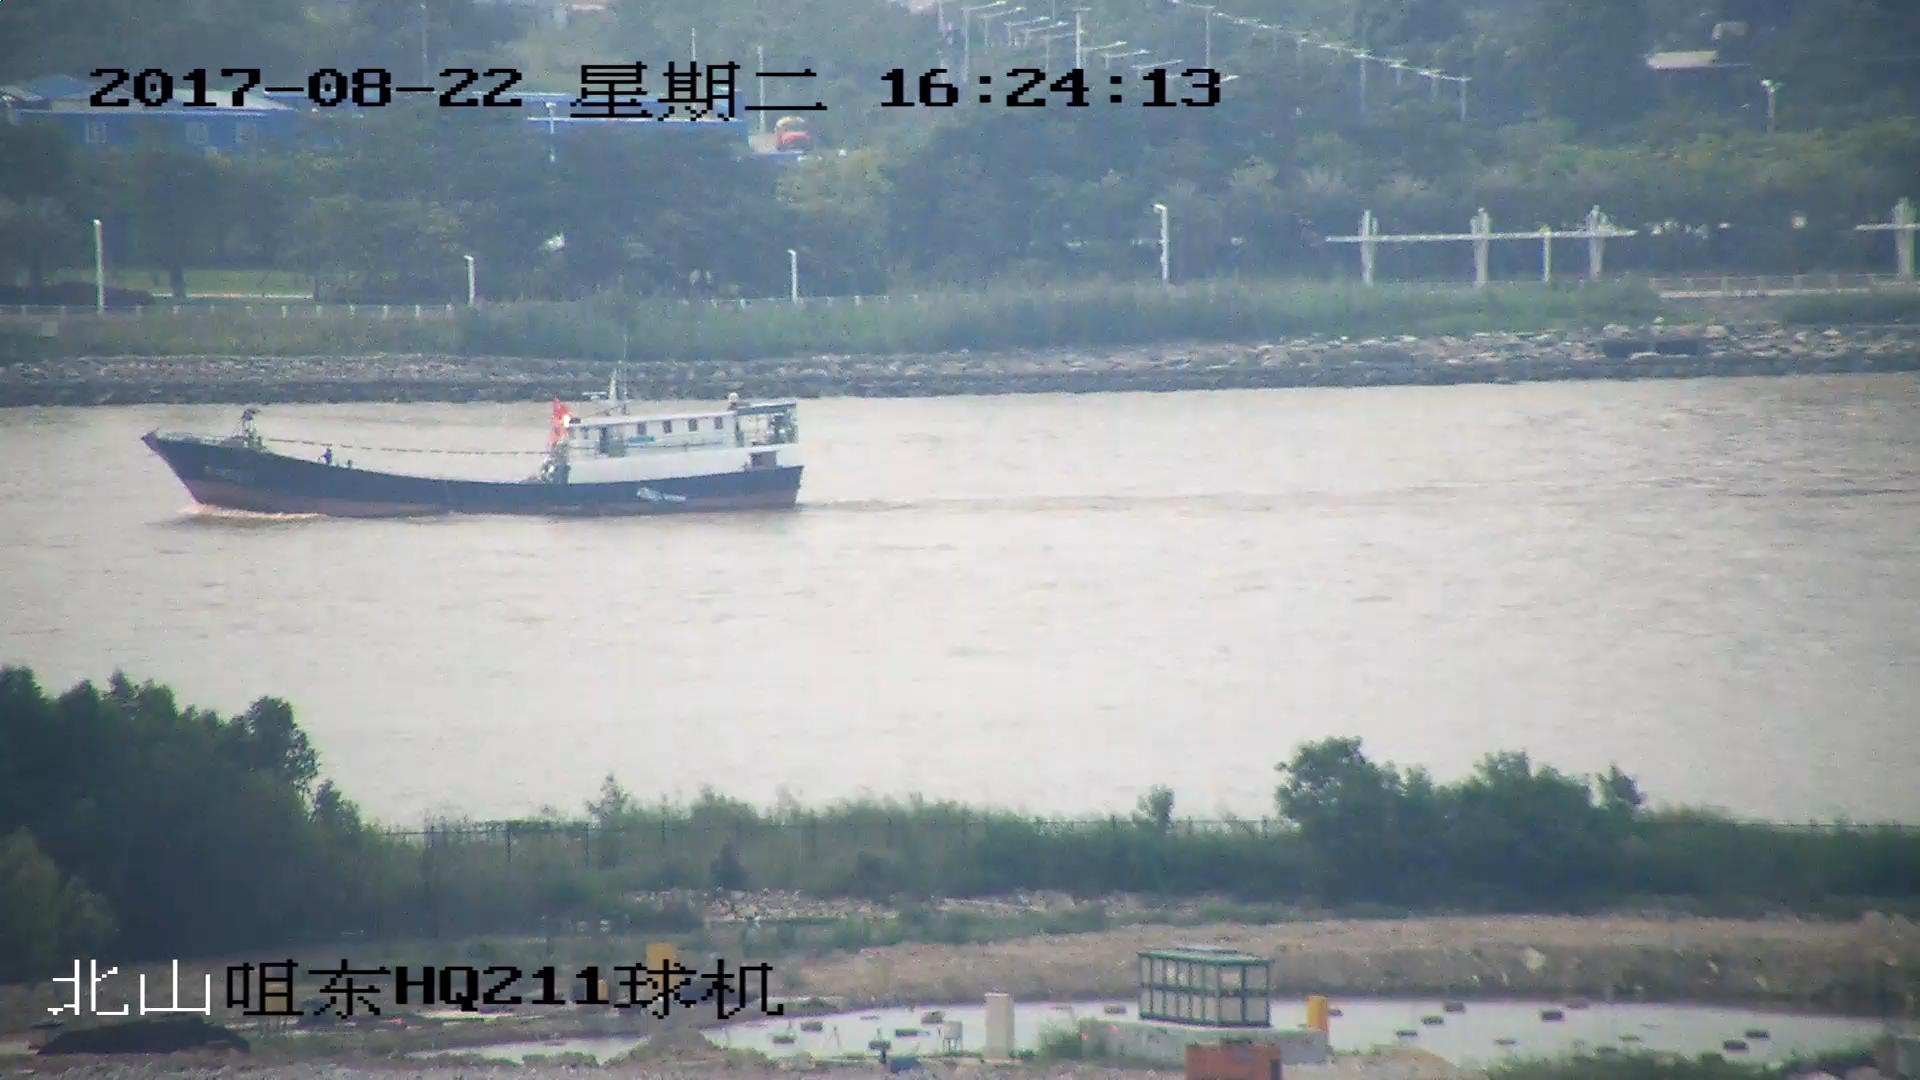fishing boat: (156, 360, 809, 519)
